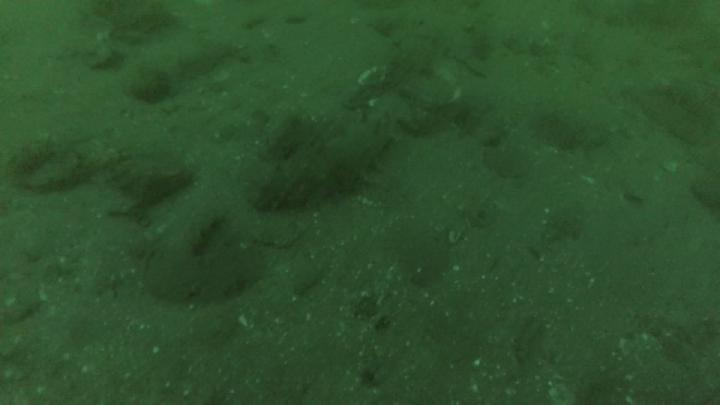holothurian: (250, 118, 397, 217)
